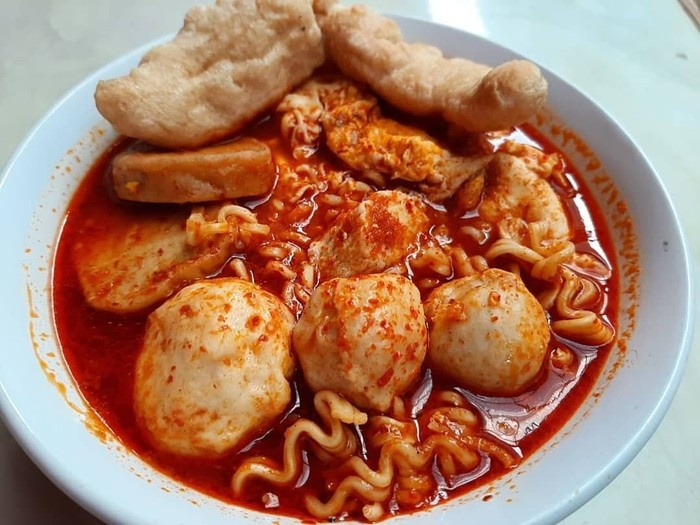seblak: (60, 6, 613, 525)
